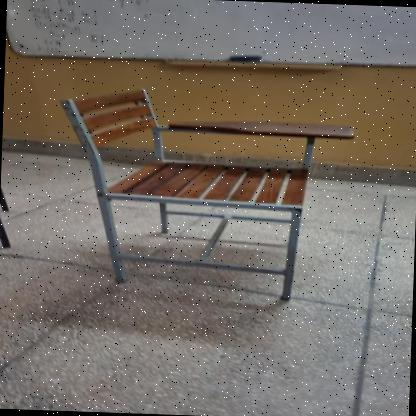chair: (46, 78, 362, 314)
